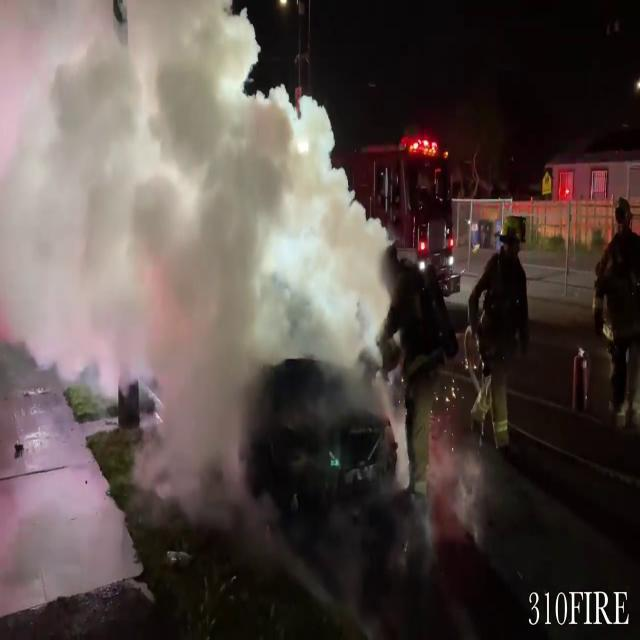Smoke: (0, 0, 389, 448)
